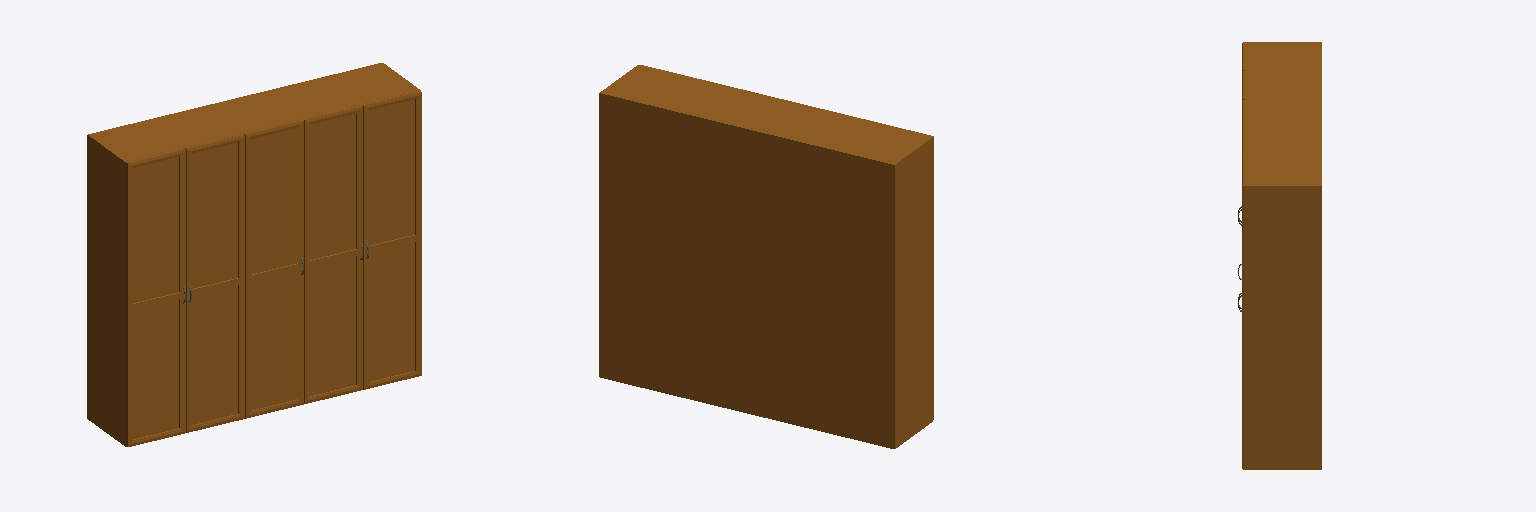
The model's file is wardobe1.obj.
3 renders of one model, left to right at view 1: azimuth 30°, elevation 25°; view 2: azimuth 150°, elevation 25°; view 3: azimuth 270°, elevation 25°, orthographic.
Visible parts, largest first — view 1: Mesh_tira_armario1.002_Cube.027; view 2: Mesh_tira_armario1.002_Cube.027; view 3: Mesh_tira_armario1.002_Cube.027.
Boxes of the visible parts, <box> form: Mesh_tira_armario1.002_Cube.027: <box>87,63,421,446</box>; Mesh_tira_armario1.002_Cube.027: <box>599,65,933,448</box>; Mesh_tira_armario1.002_Cube.027: <box>1238,42,1321,469</box>.
Bounding box in the file's own units: 25 × 23 × 6.12.